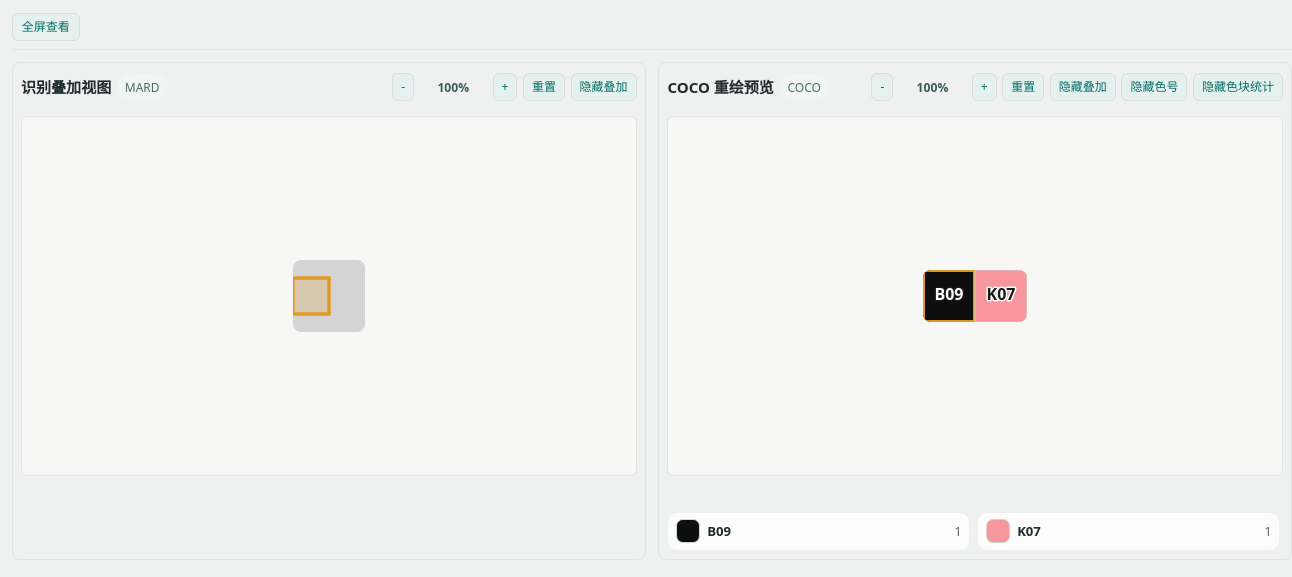
it: toggles source review overlays without hiding the uploaded image
Click the button "隐藏叠加" in the row of "MARD": (604, 87) x1=571 y1=73 x2=637 y2=101
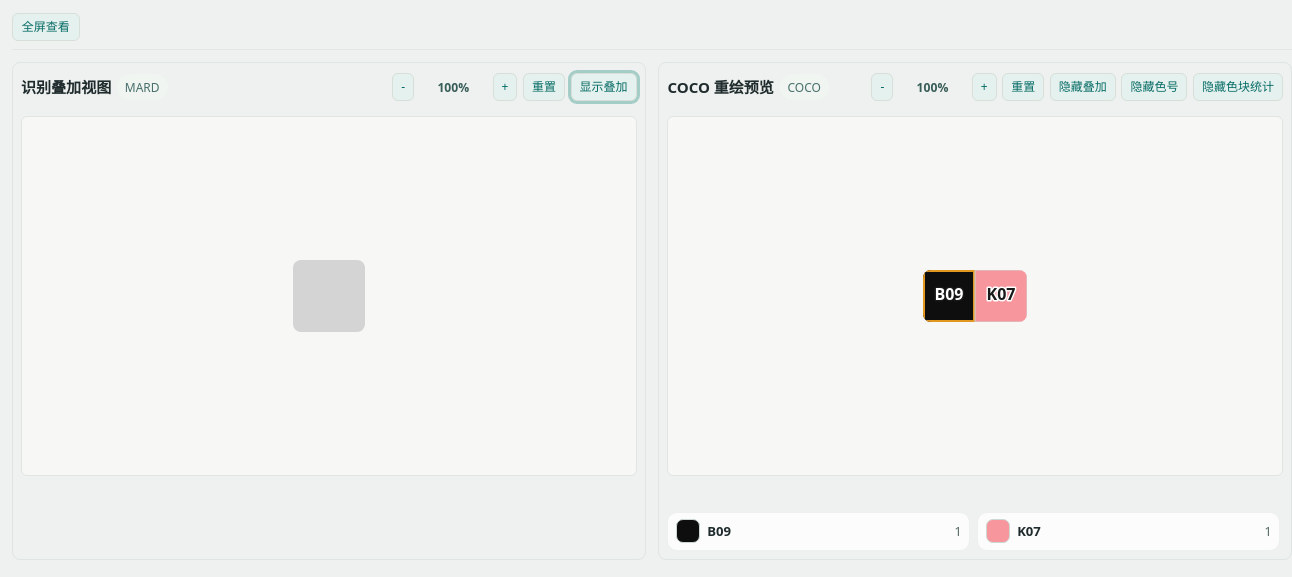
Expected: the icon labelled "待复核标记叠加层" is gone
Expected: the button "显示叠加" is shown, x1=571 y1=73 x2=637 y2=101
